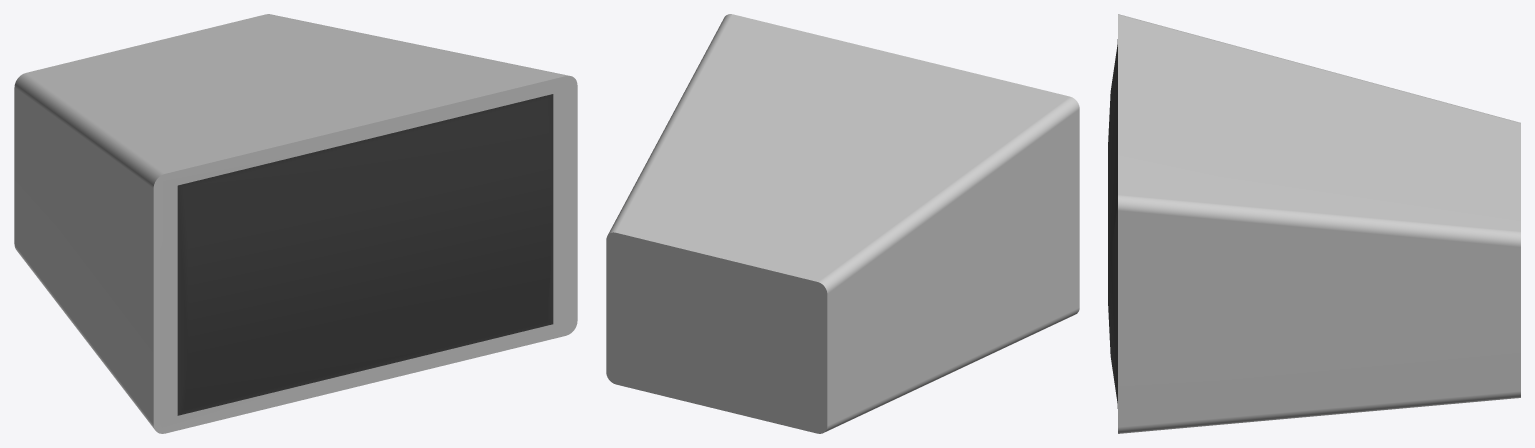
File: A_Moniter.fbx
3 renders of one model, left to right at view 1: azimuth 30°, elevation 25°; view 2: azimuth 150°, elevation 25°; view 3: azimuth 270°, elevation 25°, orthographic. The views are drawn at different scales.
Visible parts, largest first — view 1: A_Moniter; view 2: A_Moniter; view 3: A_Moniter.
Boxes of the visible parts, x1,y1,x2,y2 form: A_Moniter: (14, 14, 577, 433); A_Moniter: (606, 14, 1079, 433); A_Moniter: (1108, 14, 1520, 433).
Bounding box in the file's own units: 2.96 × 1.73 × 2.72.
Materials: 2 (2 with a texture image).
